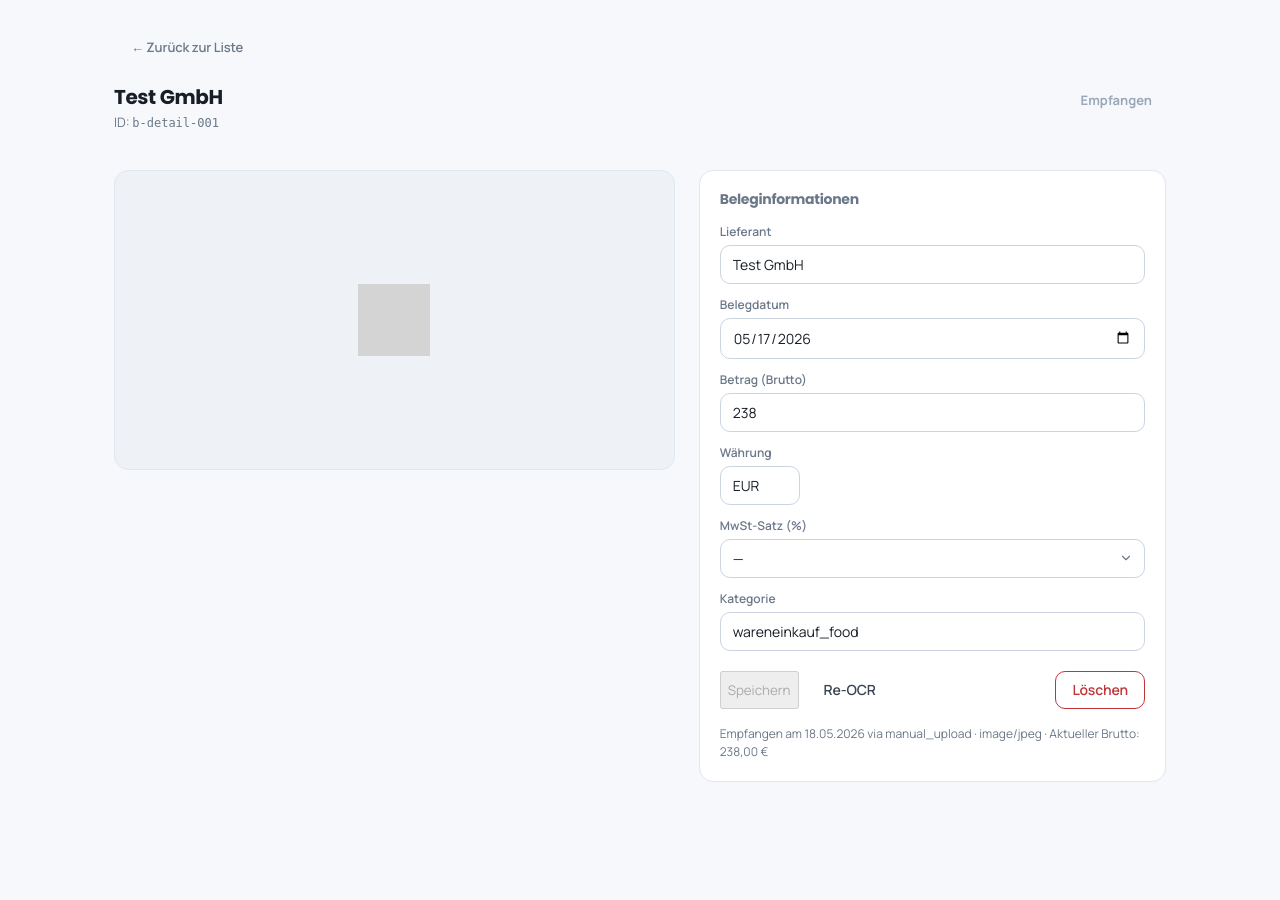
Test case: BelegeDetailPage › T015: Save-Fehler rollt UI zurück
Replace the text in the field with test id "field-supplier_name" with "Versucht" at (932,264), box [720,245,1145,284]
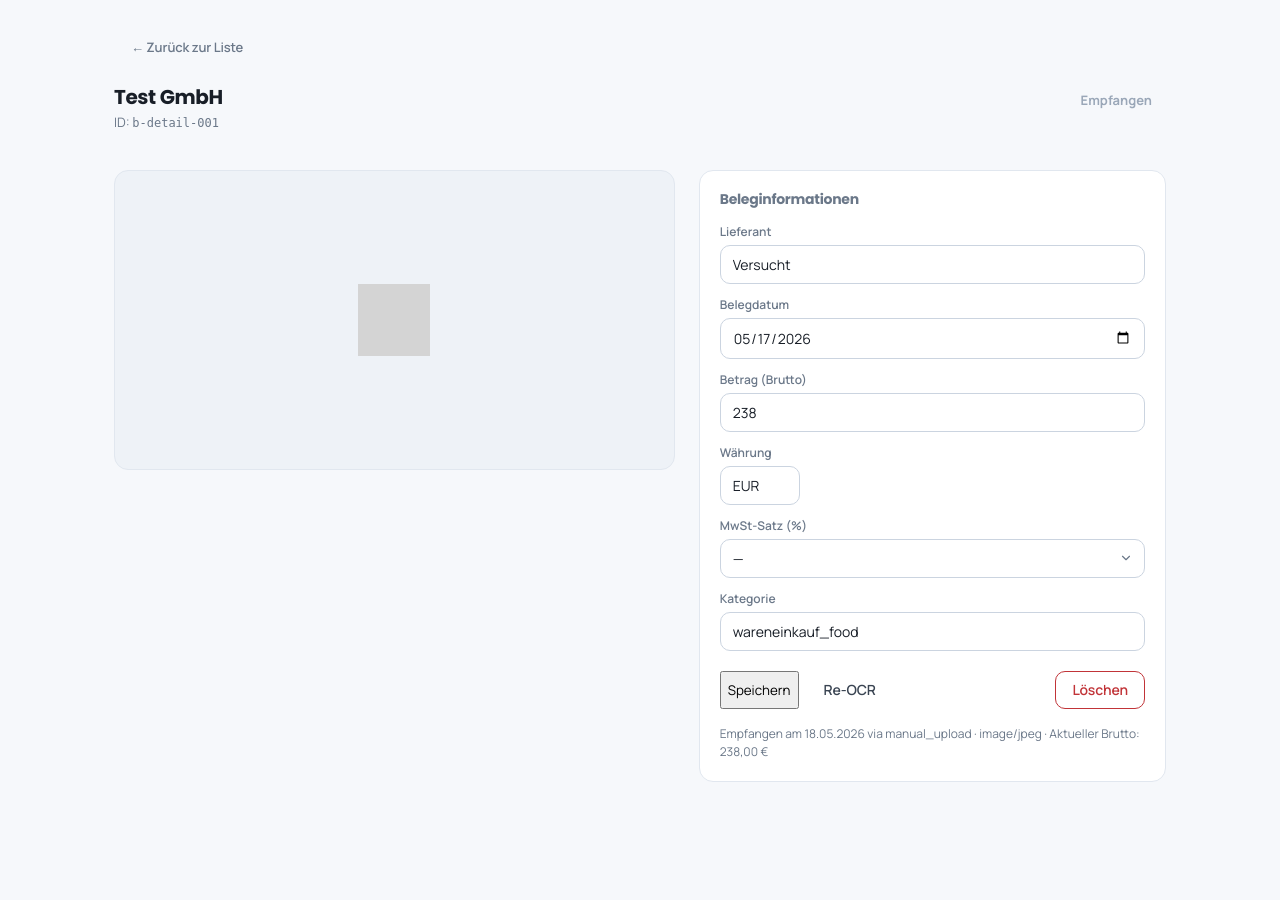
Click the button with test id "btn-save" at (759,690), box [720,671,798,709]
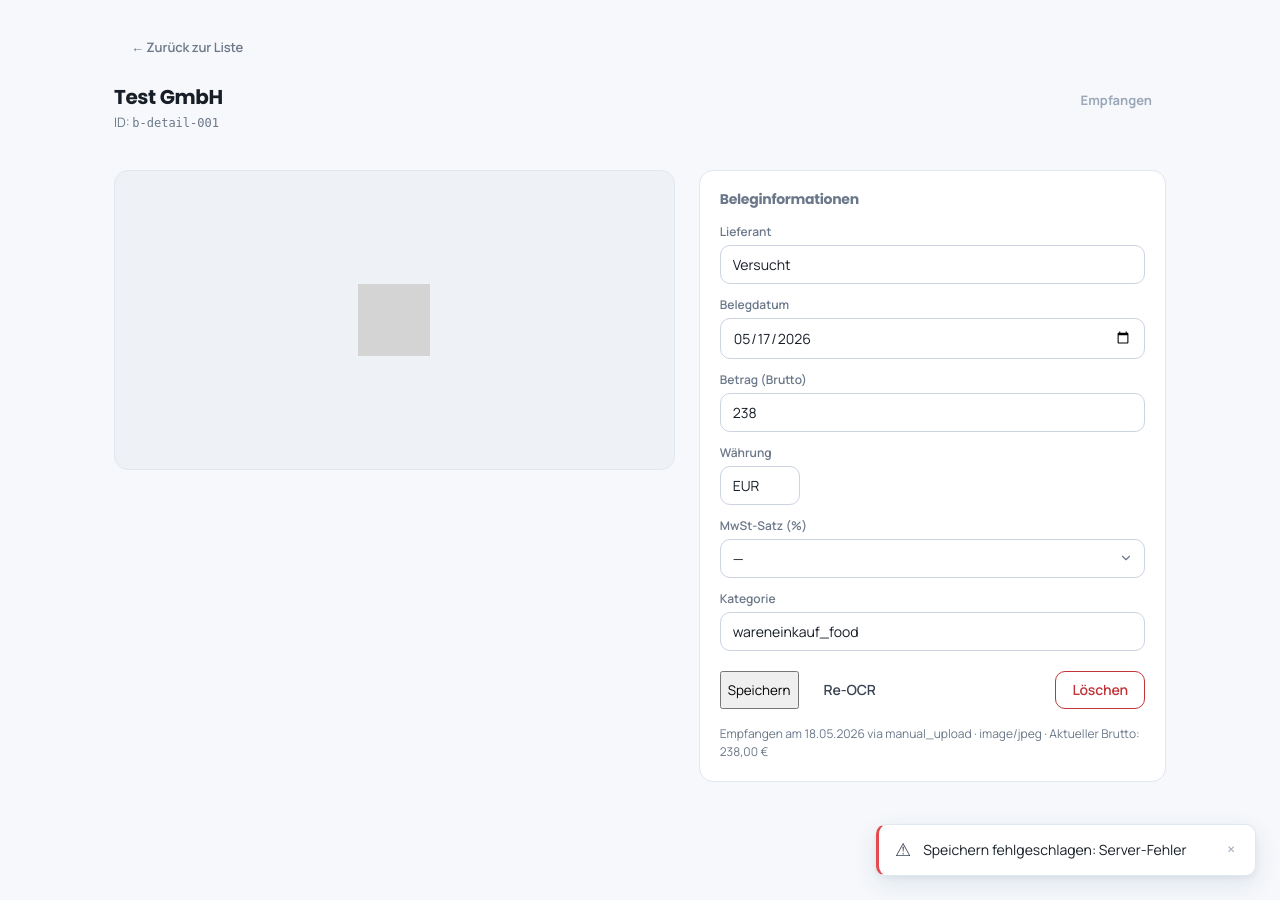
Expected: the text "Speichern fehlgeschlagen: Server-Fehler" is shown, [923,839,1211,860]
